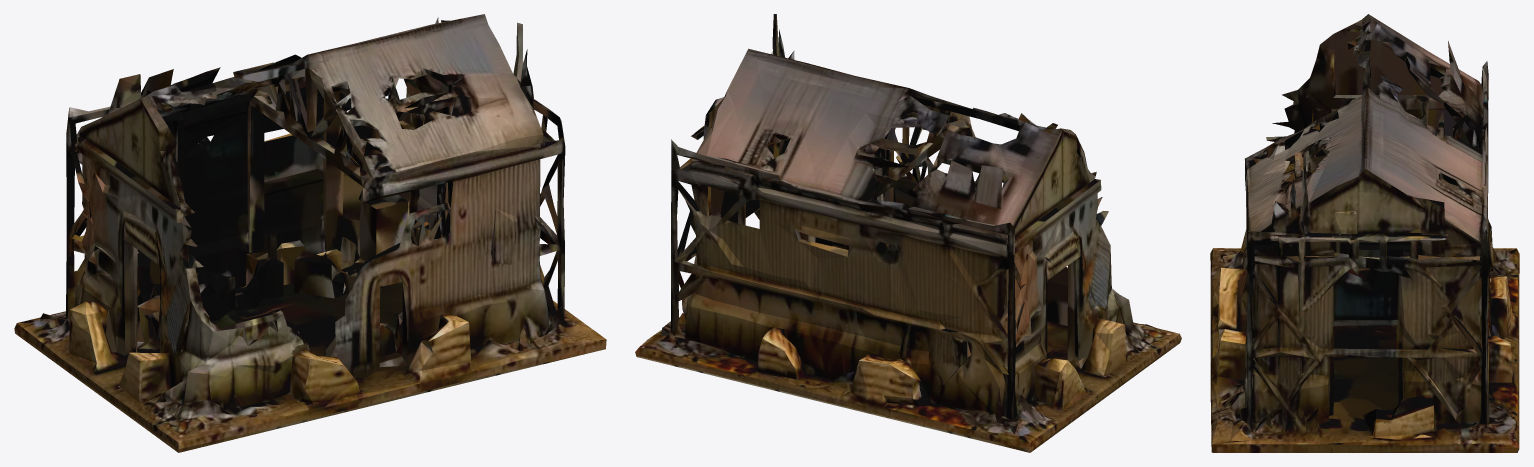
Rendered from outpost-depot.glb.
3 renders of one model, left to right at view 1: azimuth 30°, elevation 25°; view 2: azimuth 150°, elevation 25°; view 3: azimuth 270°, elevation 25°, orthographic. The views are drawn at different scales.
Parts seen in each view (by area): view 1: tmpb2blwxi_.ply; view 2: tmpb2blwxi_.ply; view 3: tmpb2blwxi_.ply.
Boxes of the visible parts, left/top/right/bottom form: tmpb2blwxi_.ply: left=14, top=14, right=606, bottom=452; tmpb2blwxi_.ply: left=635, top=14, right=1181, bottom=452; tmpb2blwxi_.ply: left=1210, top=14, right=1519, bottom=452.
Bounding box in the file's own units: 6 × 4 × 4.
1 material, 1 textured.
